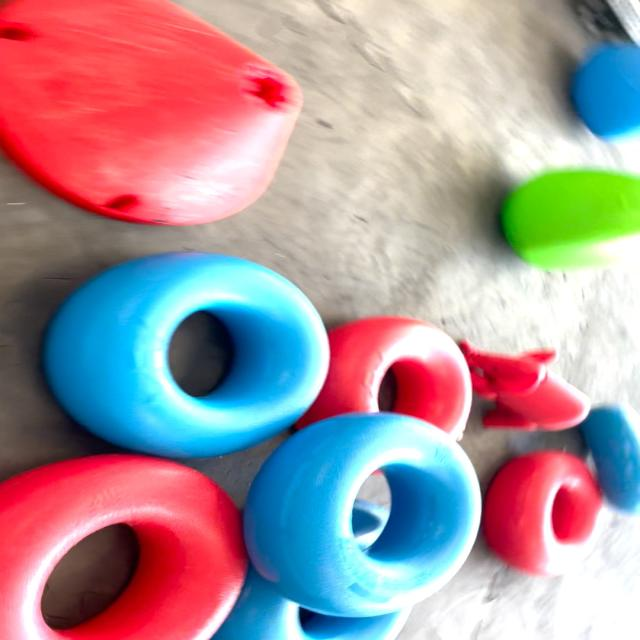Blue-Ring: (44, 252, 329, 458), (244, 412, 480, 618), (580, 404, 640, 515)
Red-Ring: (0, 455, 247, 640), (296, 316, 471, 440), (482, 450, 602, 578)
